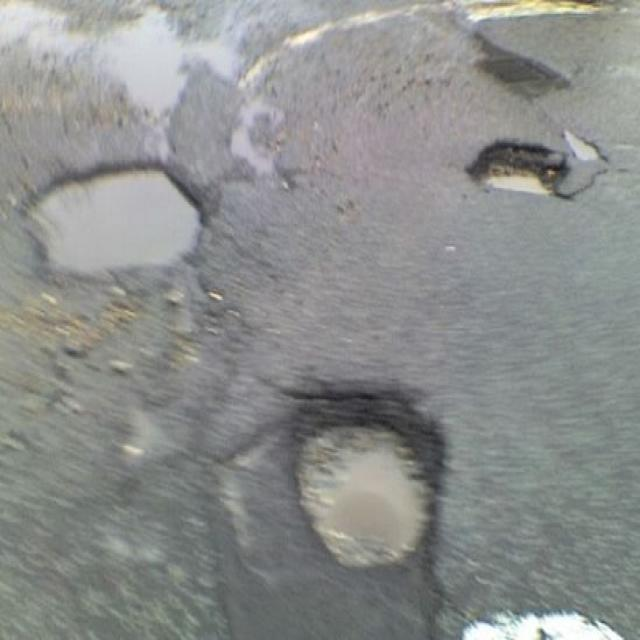pothole: (274, 374, 443, 570), (13, 156, 206, 274), (461, 132, 572, 200)
